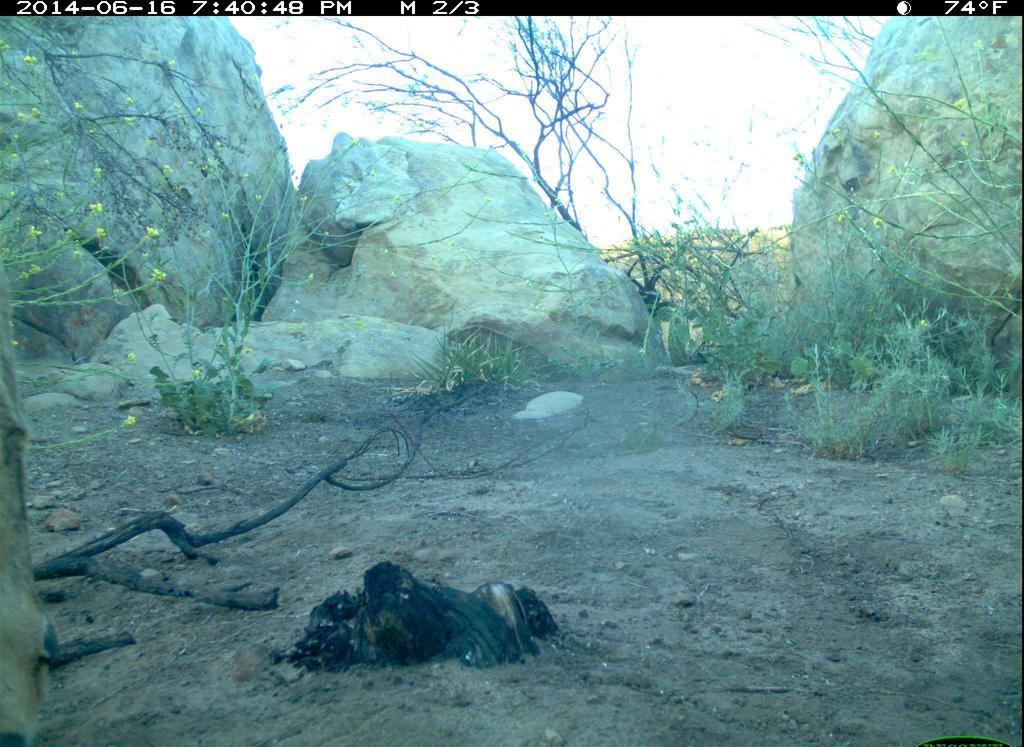deer: (1, 302, 66, 747)
